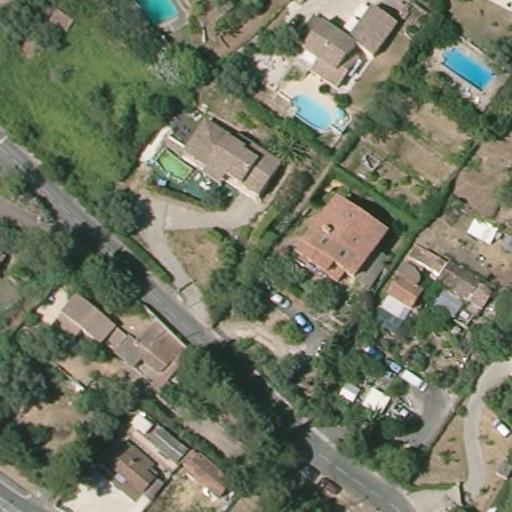pool: (432, 41, 499, 94), (284, 90, 344, 137), (133, 0, 187, 32)
